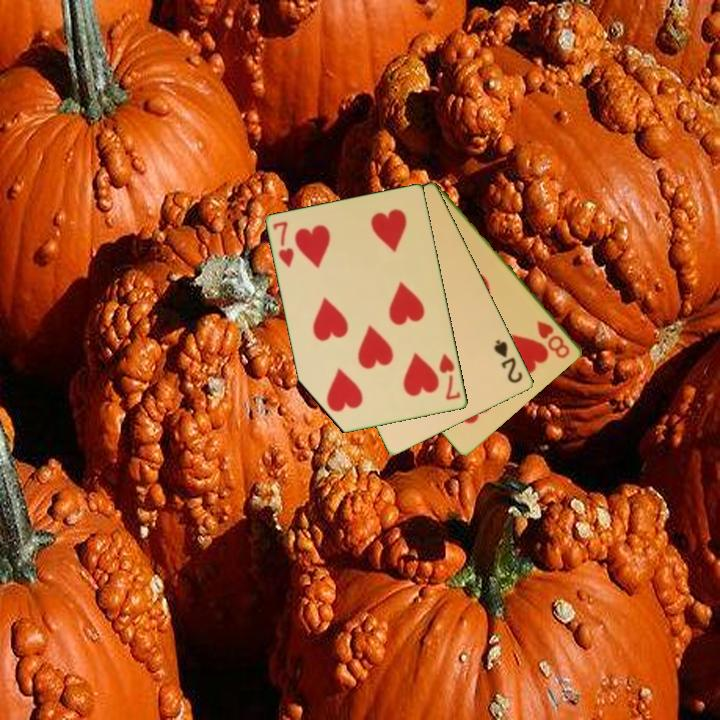2s: (490, 336, 526, 386)
7h: (436, 351, 464, 403), (270, 218, 297, 271)
8h: (533, 317, 573, 361)
